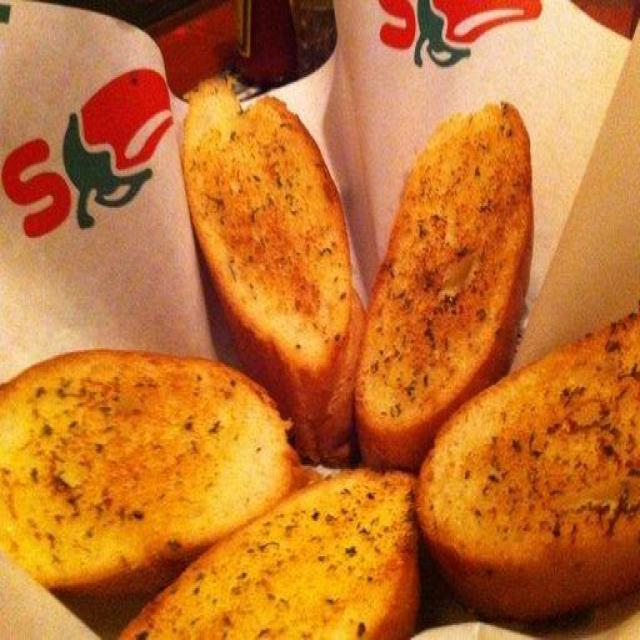food_waste: (28, 355, 364, 612), (183, 93, 354, 443), (4, 376, 295, 571), (453, 367, 640, 595), (176, 492, 411, 640), (416, 134, 525, 426)
